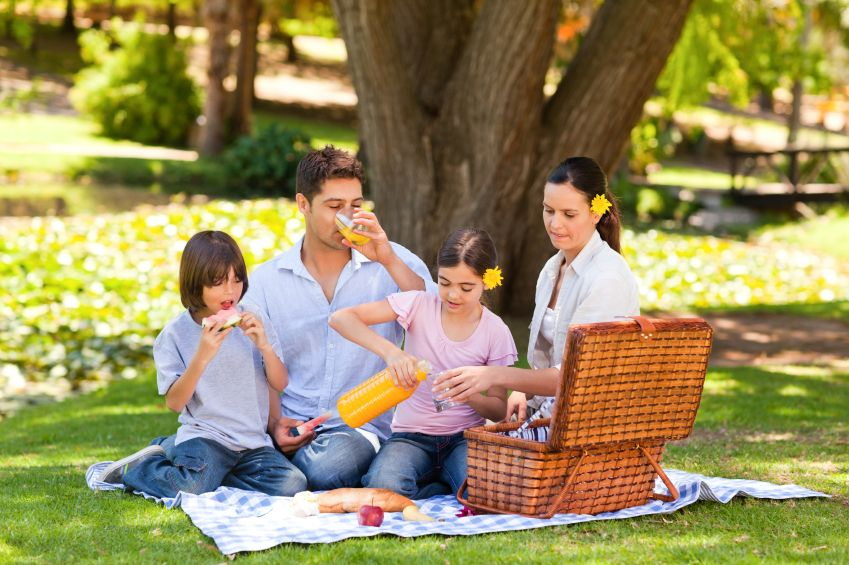Person: (520, 161, 654, 490), (274, 161, 399, 478), (412, 240, 533, 503), (149, 231, 278, 444)
